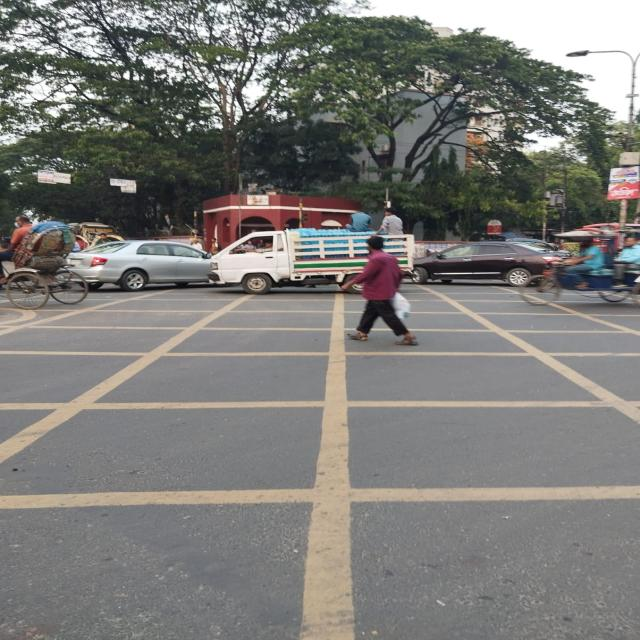person: (341, 237, 417, 346)
